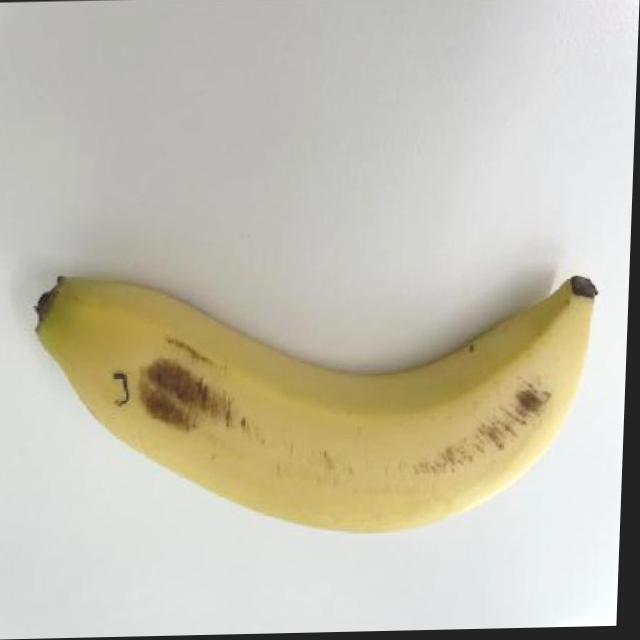banana: (18, 255, 603, 545)
